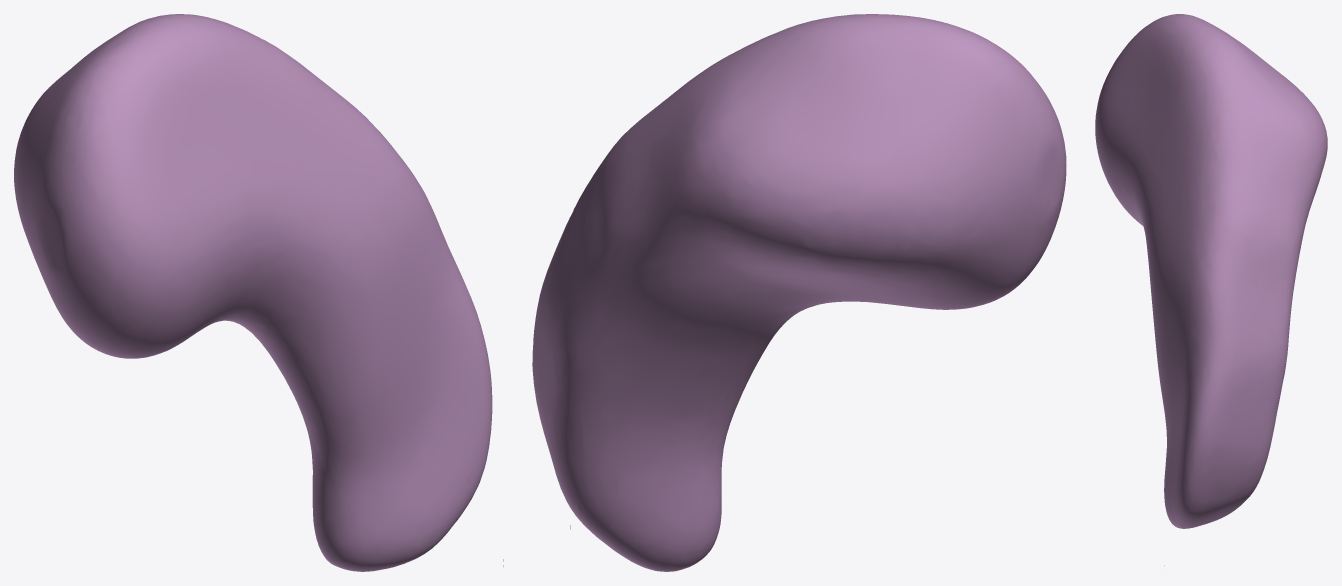
3 views of the same model, side by side, from view 1: azimuth 30°, elevation 25°; view 2: azimuth 150°, elevation 25°; view 3: azimuth 270°, elevation 25° (orthographic). The views are drawn at different scales.
Parts seen in each view (by area): view 1: 左侧下半月小叶; view 2: 左侧下半月小叶; view 3: 左侧下半月小叶.
Boxes of the visible parts, x1,y1,x2,y2 form: 左侧下半月小叶: (14,14,503,571); 左侧下半月小叶: (532,14,1066,571); 左侧下半月小叶: (1095,14,1327,565).
Bounding box in the file's own units: 0.07 × 0.0858 × 0.0421.
